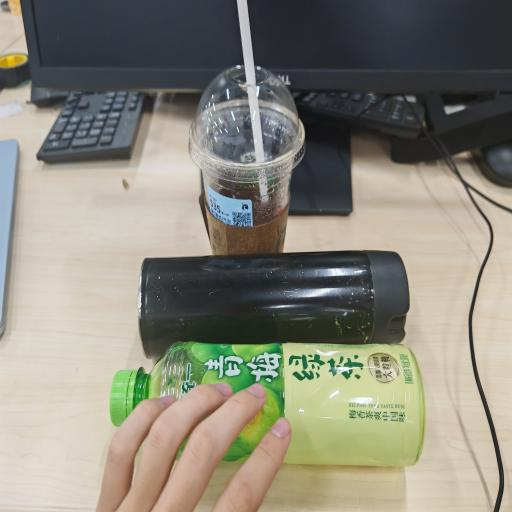mouse: (472, 141, 512, 187)
